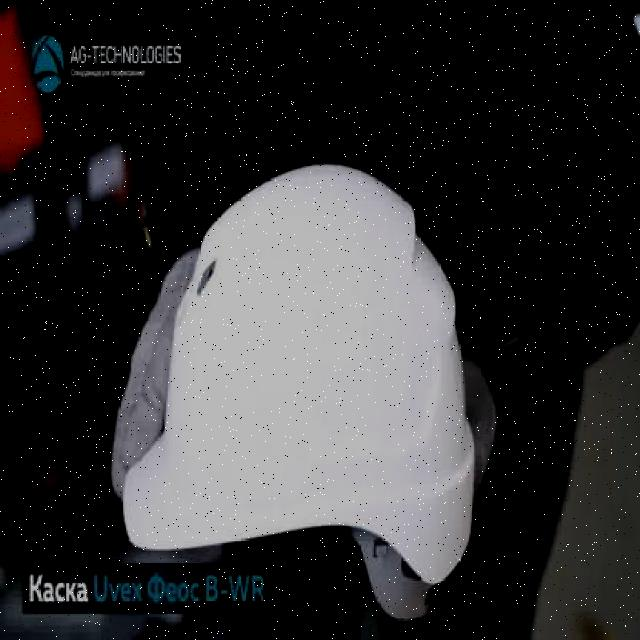Helmet: (122, 160, 478, 588)
